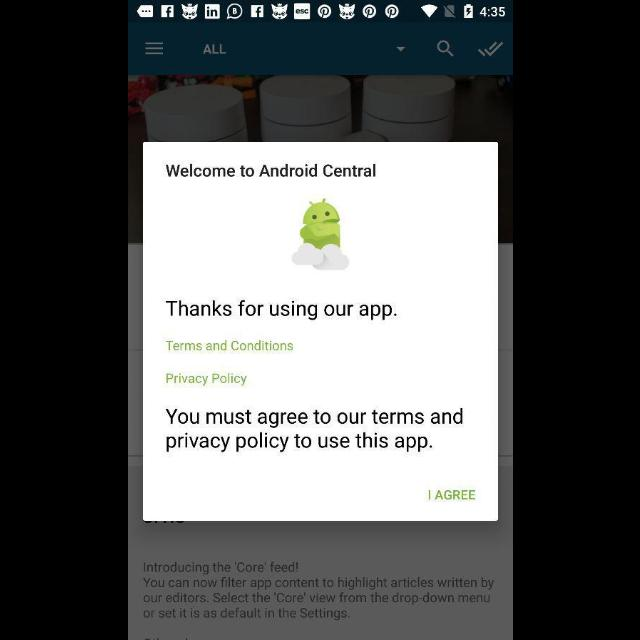icon: (476, 42, 502, 58), (144, 42, 164, 56), (437, 41, 453, 58)
image: (290, 199, 350, 271)
panel: (142, 143, 498, 522)
text: (142, 562, 494, 620), (165, 409, 462, 453), (166, 300, 397, 320), (164, 164, 376, 178), (165, 340, 293, 352), (166, 372, 246, 386), (428, 489, 474, 501), (202, 44, 225, 56)
uppertaskbar: (128, 1, 512, 23)
